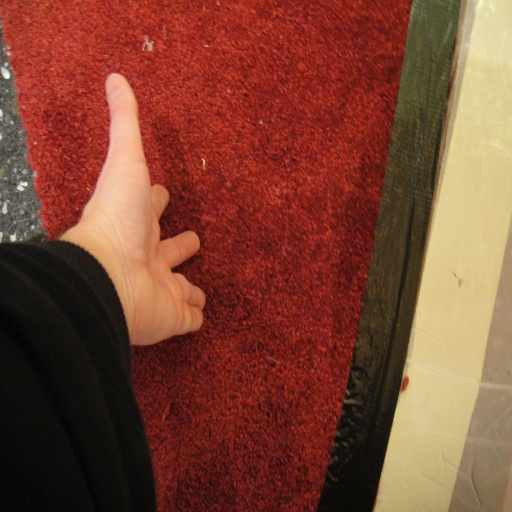hand: (56, 79, 203, 359)
